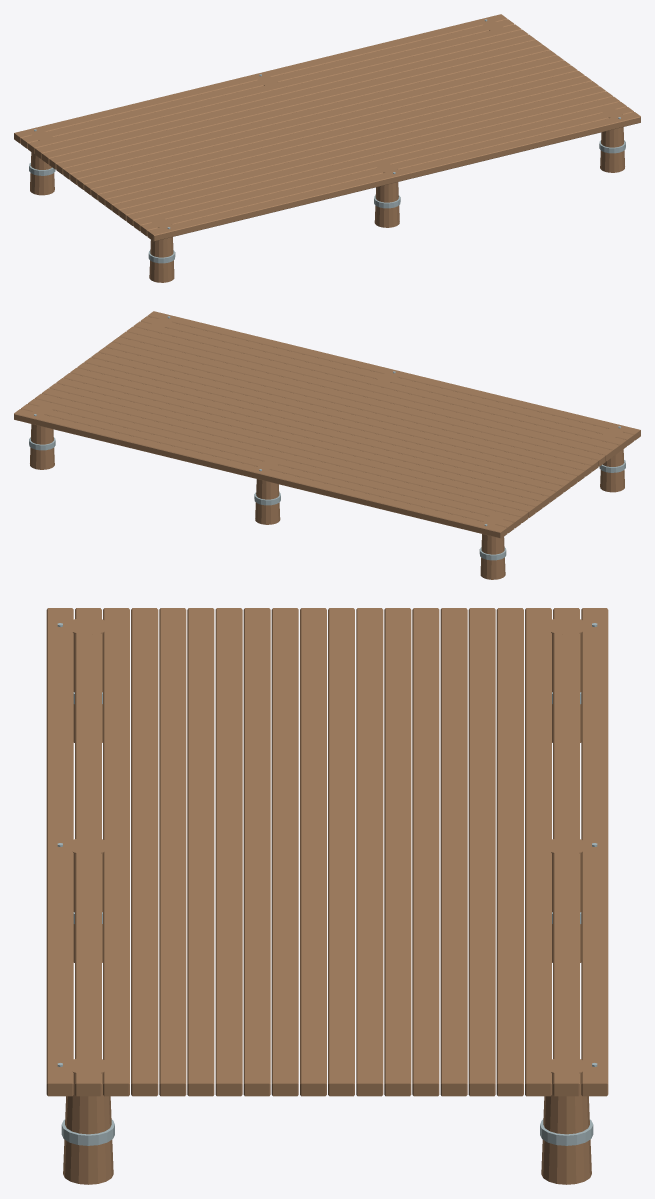
The model's file is harbor-and-tackle-harbor-quay-4981bfb9__19599.glb.
3 views of the same model, one above another, from view 1: azimuth 30°, elevation 25°; view 2: azimuth 150°, elevation 25°; view 3: azimuth 270°, elevation 25° (orthographic). The views are drawn at different scales.
Visible parts, largest first — view 1: cedar, metal; view 2: cedar, metal; view 3: cedar, metal.
Part boxes in pixels (x1,y1,x2,y2): cedar: (14, 14, 640, 282); metal: (29, 19, 625, 263); cedar: (14, 311, 640, 579); metal: (29, 316, 625, 560); cedar: (46, 608, 608, 1184); metal: (57, 623, 597, 1145).
Bounding box in the file's own units: 8 × 0.8637 × 3.99.
